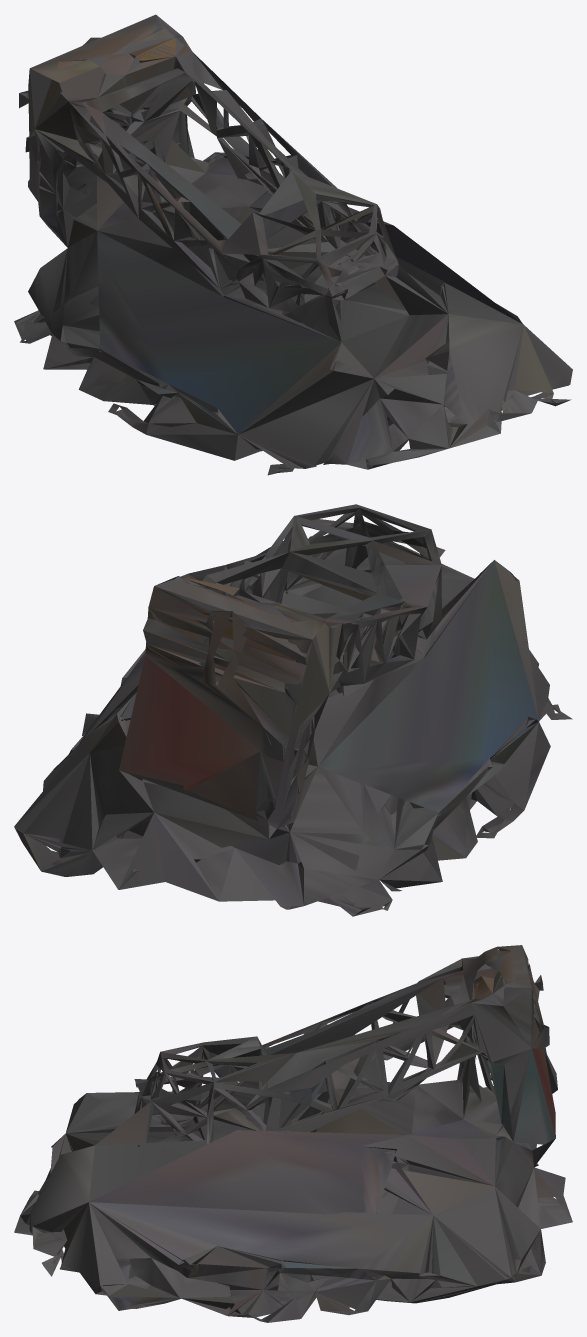
The model's file is k09_far.glb.
The picture shows the model from 3 angles, top to bottom: view 1: azimuth 30°, elevation 25°; view 2: azimuth 150°, elevation 25°; view 3: azimuth 270°, elevation 25°; orthographic projection. The views are drawn at different scales.
Parts seen in each view (by area): view 1: k09_far; view 2: k09_far; view 3: k09_far.
Part boxes in pixels (bbox=[...]): k09_far: bbox=[14, 14, 572, 475]; k09_far: bbox=[14, 504, 572, 916]; k09_far: bbox=[14, 945, 572, 1322].
Size of the model in its own units: 17.64 by 12 by 24.09.
1 material, 1 textured.
